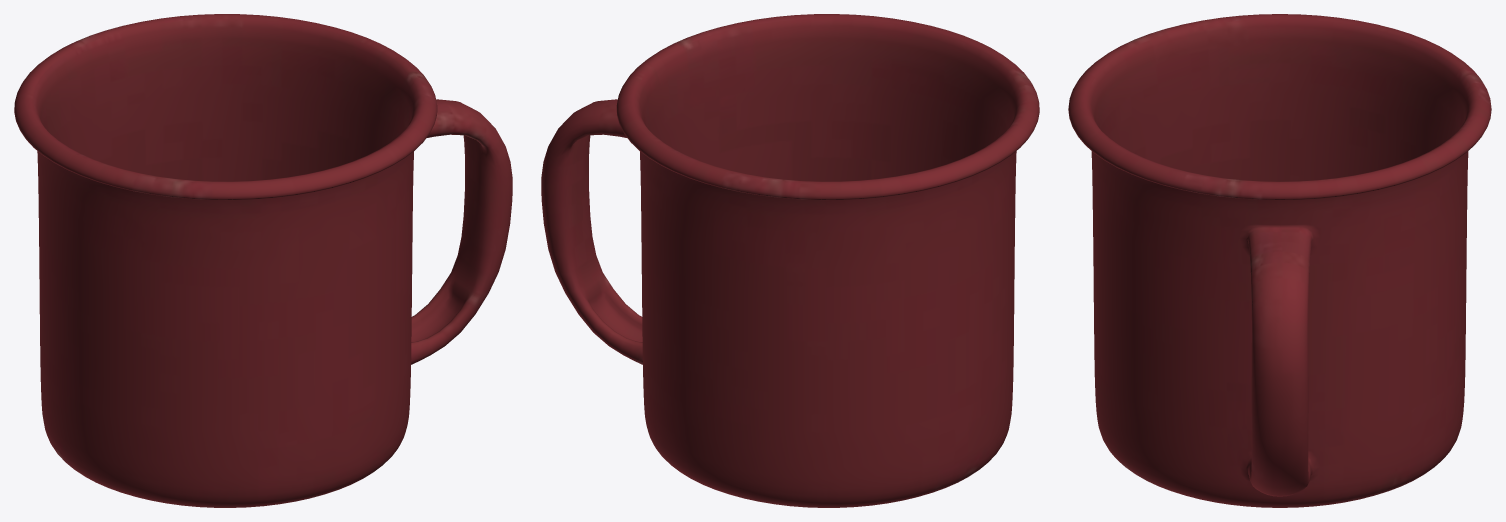
Rendered from nvidia-dishware-mug.glb.
The picture shows the model from 3 angles, left to right: view 1: azimuth 30°, elevation 25°; view 2: azimuth 150°, elevation 25°; view 3: azimuth 270°, elevation 25°; orthographic projection.
Parts seen in each view (by area): view 1: dishware_mug_a01_mesh_00.001; view 2: dishware_mug_a01_mesh_00.001; view 3: dishware_mug_a01_mesh_00.001.
Boxes of the visible parts, bbox=[...] form: dishware_mug_a01_mesh_00.001: bbox=[14, 14, 512, 507]; dishware_mug_a01_mesh_00.001: bbox=[541, 14, 1039, 507]; dishware_mug_a01_mesh_00.001: bbox=[1068, 14, 1491, 507].
Size of the model in its own units: 0.1144 by 0.08 by 0.0902.
Materials: 1 (1 with a texture image).
